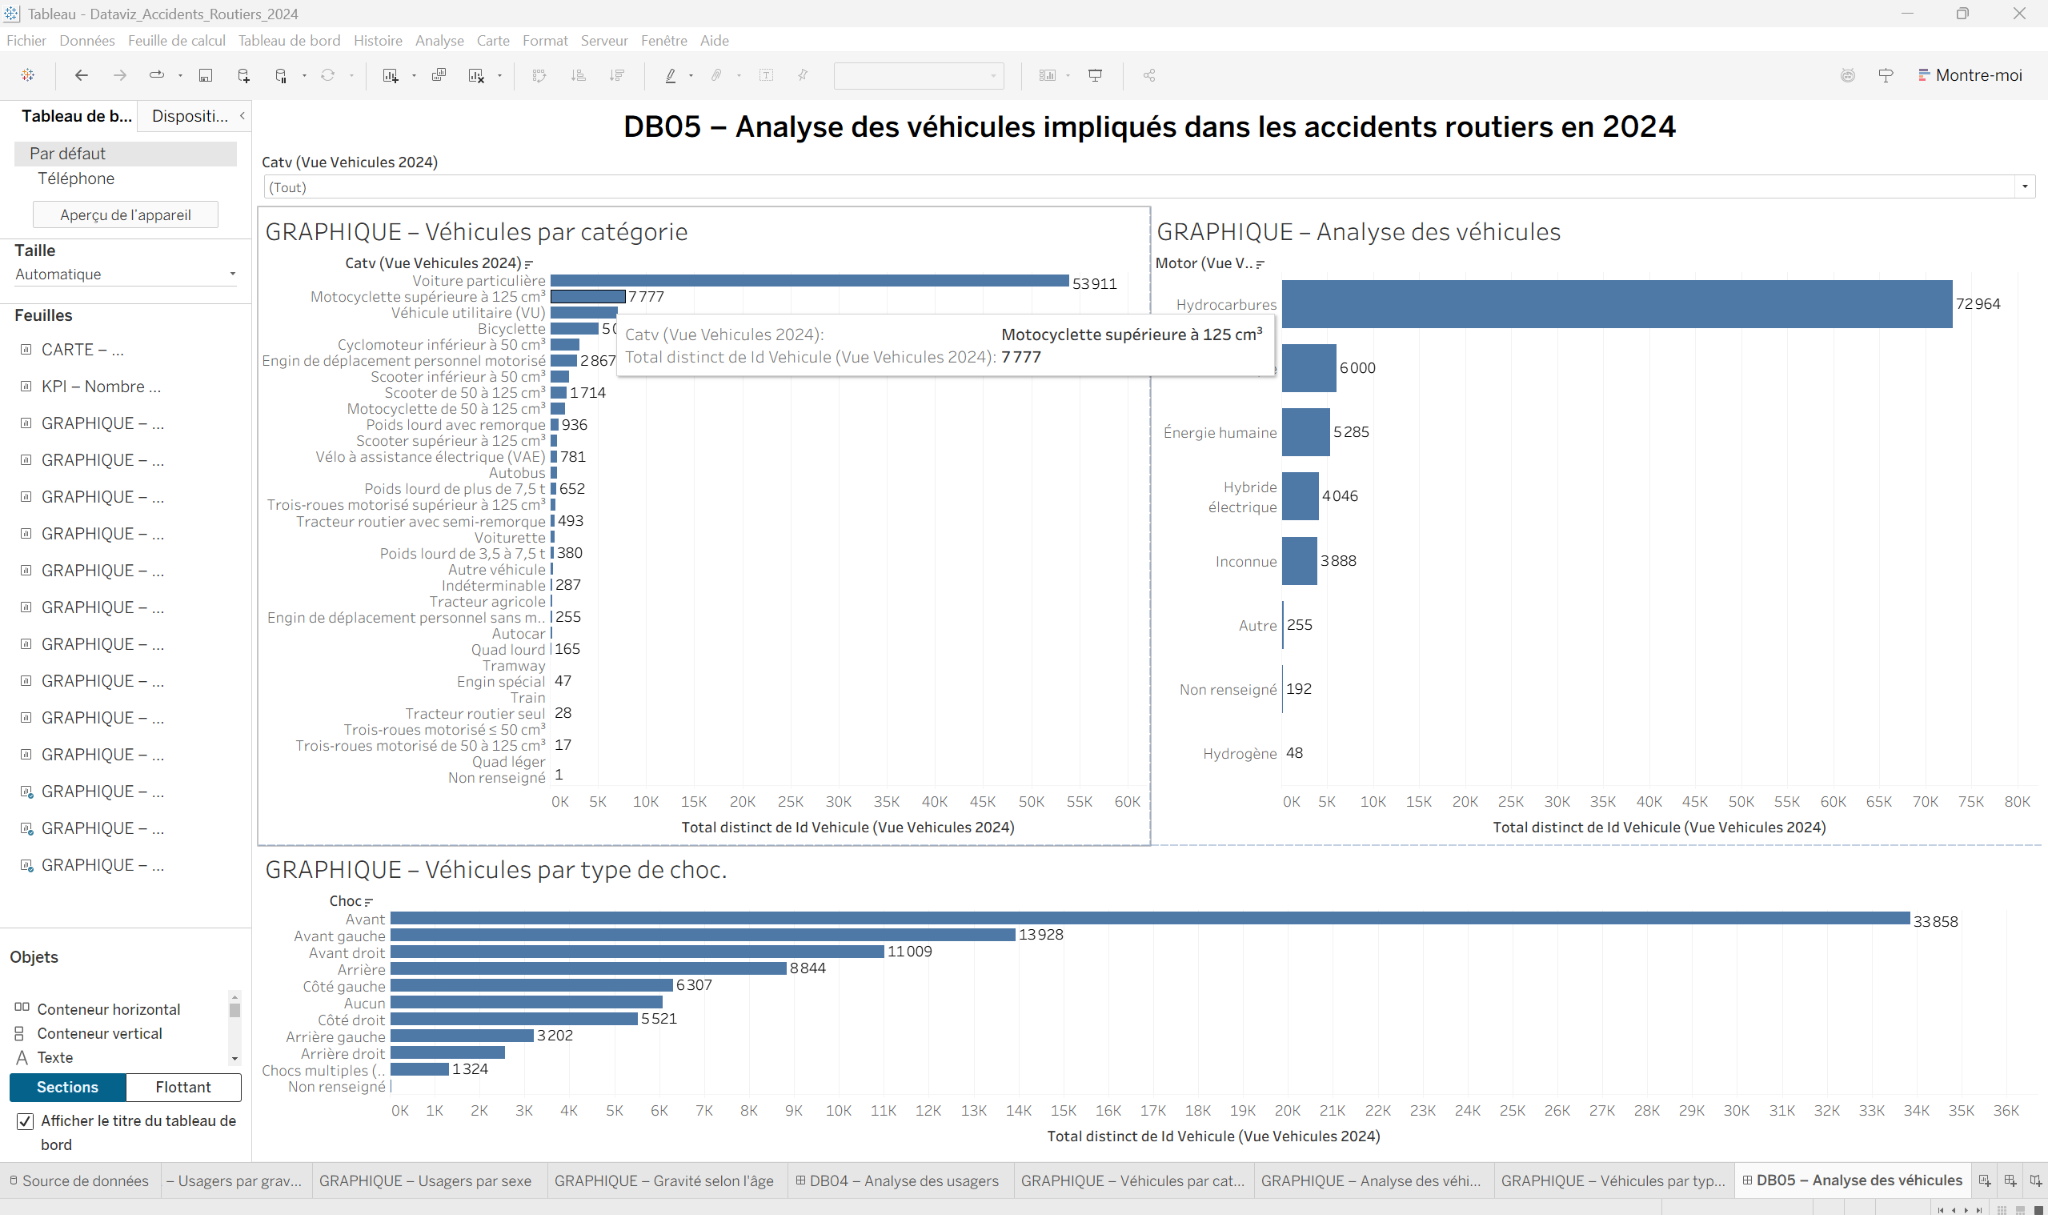

What the dashboard file says about the page in this screenshot:
{"tool":"tableau","page":{"name":"DB05 – Analyse des véhicules","canvas":[1000,1000],"units":"permille","ordinal":4},"visuals":[{"type":"title","box":[3.6,6,992.9,39.2]},{"type":"filter","title":"GRAPHIQUE – Véhicules par catégorie","param":"[federated.1dc3qo30r3qsj61aflm3n1lx6kel].[none:catv (vue_vehicules_2024):ok]","box":[3.6,45.2,992.9,52.8]},{"type":"worksheet","title":"GRAPHIQUE – Véhicules par catégorie","mark":"Bar","rows":["catv (vue_vehicules_2024)"],"cols":["id_vehicule (vue_vehicules_2024)"],"box":[3.6,101,496.4,601.1]},{"type":"worksheet","title":"GRAPHIQUE – Analyse des véhicules","mark":"Bar","rows":["motor (vue_vehicules_2024)"],"cols":["id_vehicule (vue_vehicules_2024)"],"box":[500,101,496.4,601.1]},{"type":"worksheet","title":"GRAPHIQUE – Véhicules par type de choc.","mark":"Automatic","rows":["choc"],"cols":["id_vehicule (vue_vehicules_2024)"],"box":[3.6,702.1,992.9,291.9]}]}

Visuals, with their boxes on the dashboard's canvas, which has no fixed pixel size, in thousandths of its width and height (x1, y1, x2, y2). These are canvas units, not pixel positions in the 2048x1215 screenshot, which may show the page scaled, cropped or inside an application window:
title: l=4, t=6, r=996, b=45
"GRAPHIQUE – Véhicules par catégorie" filter: l=4, t=45, r=996, b=98
"GRAPHIQUE – Véhicules par catégorie" worksheet (Bar marks): l=4, t=101, r=500, b=702
"GRAPHIQUE – Analyse des véhicules" worksheet (Bar marks): l=500, t=101, r=996, b=702
"GRAPHIQUE – Véhicules par type de choc." worksheet: l=4, t=702, r=996, b=994
